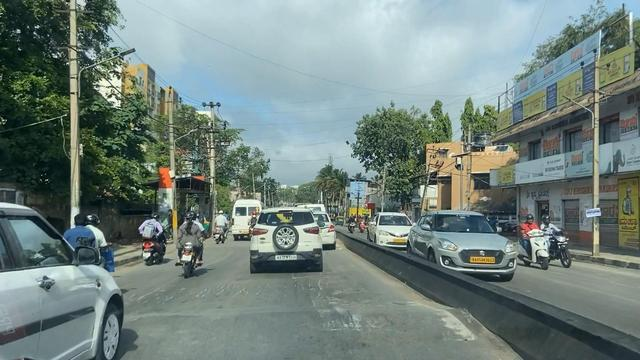LMV: (253, 211, 322, 269), (174, 212, 203, 276), (138, 213, 166, 264)
SpeedBump: (133, 300, 482, 346)
UnsurfacedRoad: (142, 276, 377, 297)
